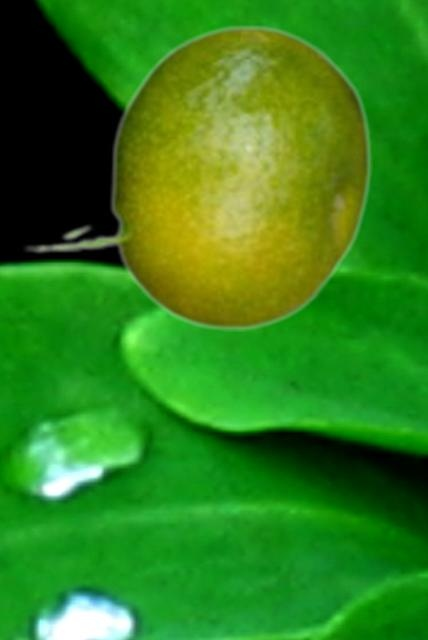calamansi: (23, 23, 371, 330)
